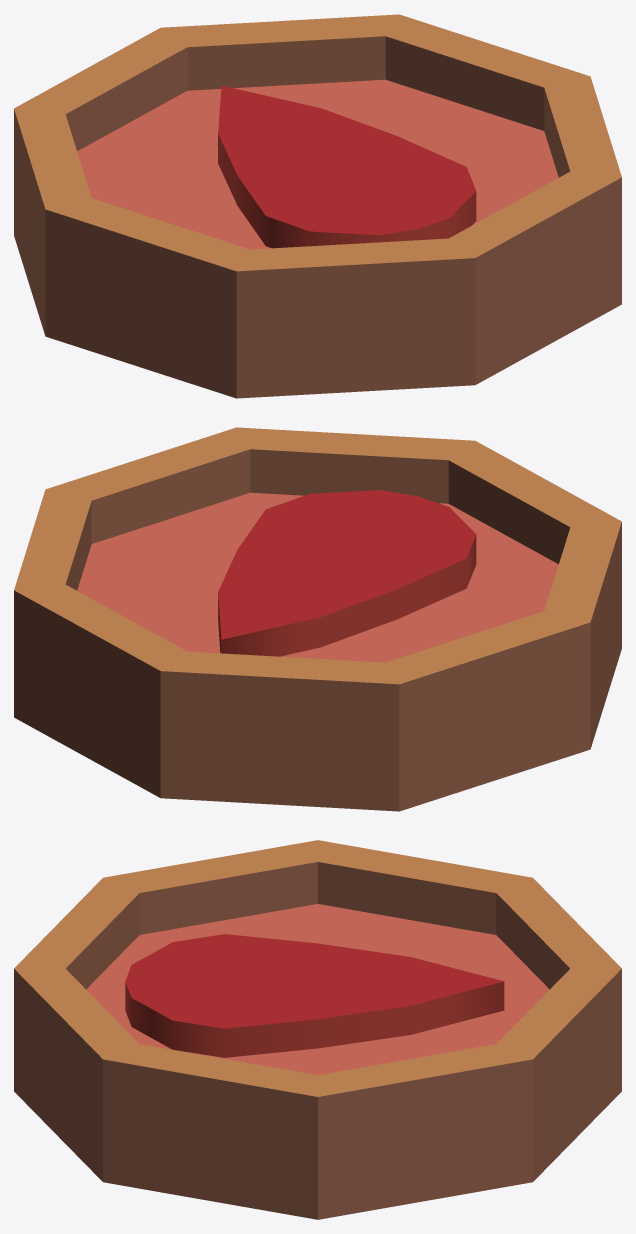
File: GotaRef_1.FBX
The picture shows the model from 3 angles, top to bottom: view 1: azimuth 30°, elevation 25°; view 2: azimuth 150°, elevation 25°; view 3: azimuth 270°, elevation 25°; orthographic projection. The views are drawn at different scales.
Parts seen in each view (by area): view 1: BaseColor_02; view 2: BaseColor_02; view 3: BaseColor_02.
Part boxes in pixels (x1=…): BaseColor_02: x1=14, y1=14, x2=621, y2=398; BaseColor_02: x1=14, y1=427, x2=621, y2=811; BaseColor_02: x1=14, y1=840, x2=621, y2=1219.
Size of the model in its own units: 51.67 by 11.52 by 51.67.
